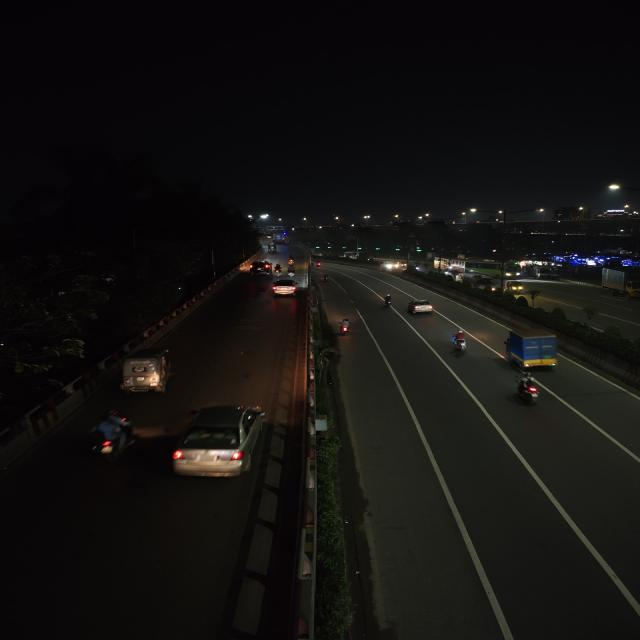bus: (466, 258, 523, 278), (435, 254, 467, 273)
car: (170, 401, 270, 482), (406, 297, 435, 317), (269, 278, 299, 297), (248, 260, 272, 276)
cng: (117, 348, 177, 398), (506, 281, 524, 295)
motorcycle: (88, 409, 138, 464), (511, 372, 547, 410), (446, 330, 473, 358), (334, 316, 354, 338), (379, 291, 396, 310), (274, 264, 284, 276), (286, 266, 296, 278), (321, 272, 330, 284), (286, 255, 296, 265)
truck: (500, 328, 567, 372), (600, 266, 639, 300)
